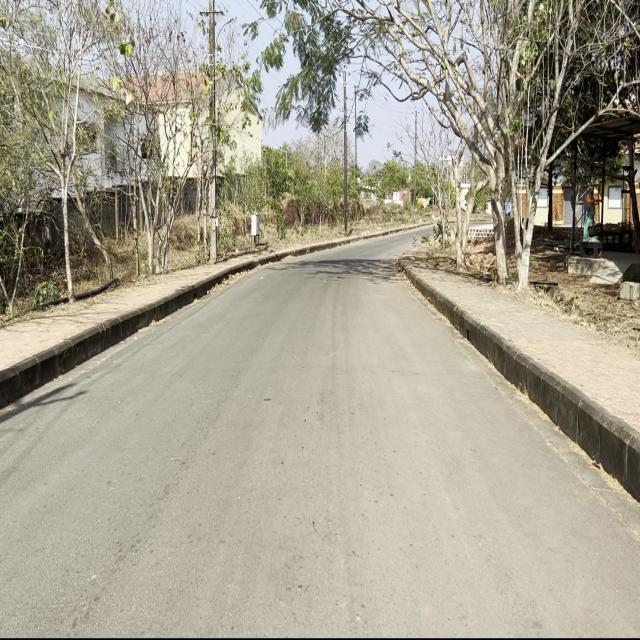Road: (2, 246, 636, 632)
